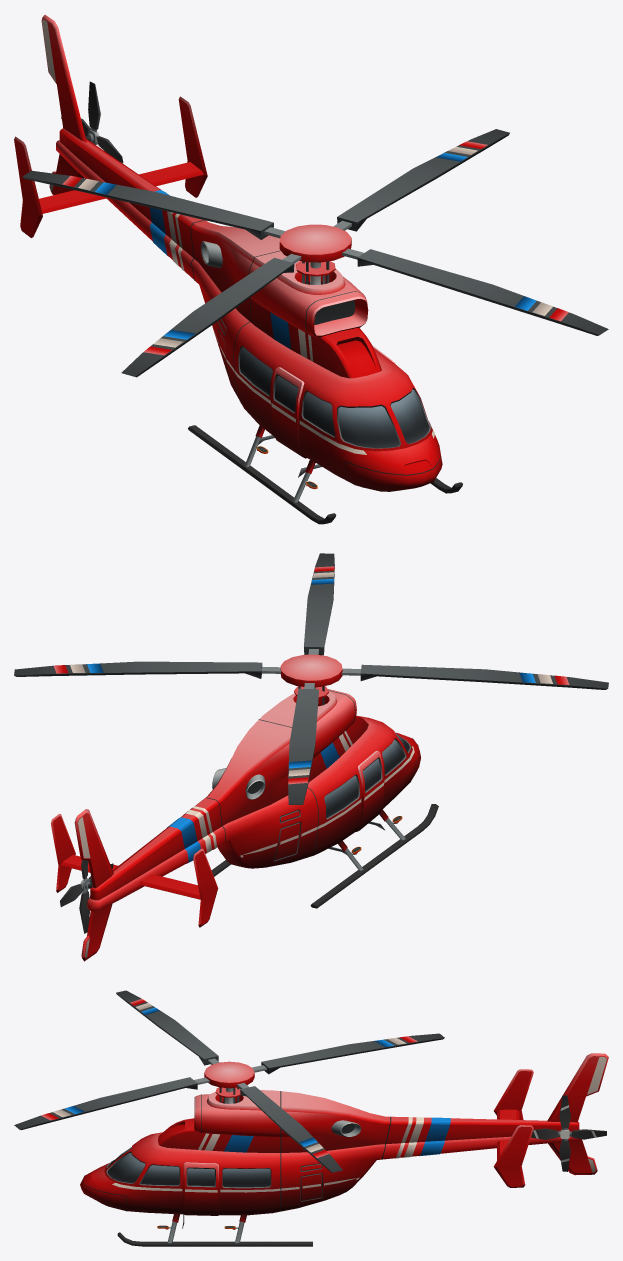
File: News_Helicopter_1A.fbx
3 views of the same model, one above another, from view 1: azimuth 30°, elevation 25°; view 2: azimuth 150°, elevation 25°; view 3: azimuth 270°, elevation 25° (orthographic). The views are drawn at different scales.
Visible parts, largest first — view 1: News_Helicopter_1A, Main_Rotor_1A, Tail_Rotor_1A; view 2: News_Helicopter_1A, Main_Rotor_1A, Tail_Rotor_1A; view 3: News_Helicopter_1A, Main_Rotor_1A, Tail_Rotor_1A.
Boxes of the visible parts, bbox=[...] form: News_Helicopter_1A: bbox=[14, 15, 462, 524]; Main_Rotor_1A: bbox=[22, 129, 608, 377]; Tail_Rotor_1A: bbox=[61, 81, 123, 163]; News_Helicopter_1A: bbox=[51, 689, 438, 961]; Main_Rotor_1A: bbox=[14, 553, 608, 804]; Tail_Rotor_1A: bbox=[60, 860, 113, 933]; News_Helicopter_1A: bbox=[80, 1053, 608, 1246]; Main_Rotor_1A: bbox=[14, 990, 444, 1172]; Tail_Rotor_1A: bbox=[531, 1095, 606, 1171].
Bounding box in the file's own units: 9.46 × 4.14 × 13.06.
